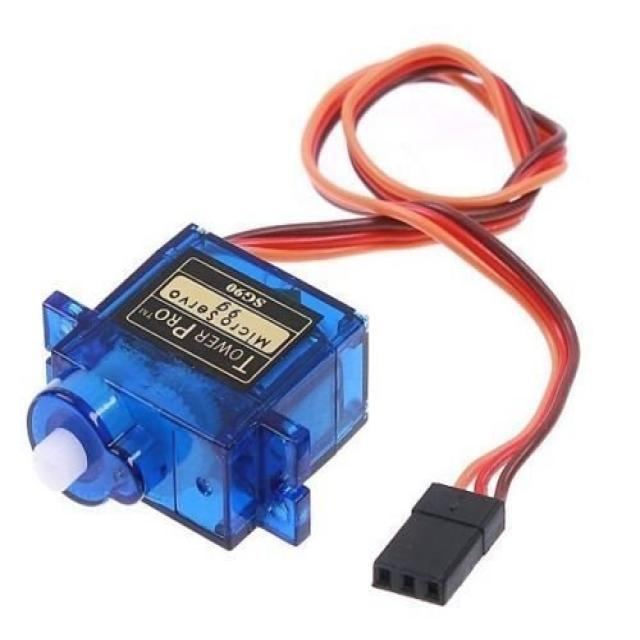motor: (32, 228, 369, 551)
